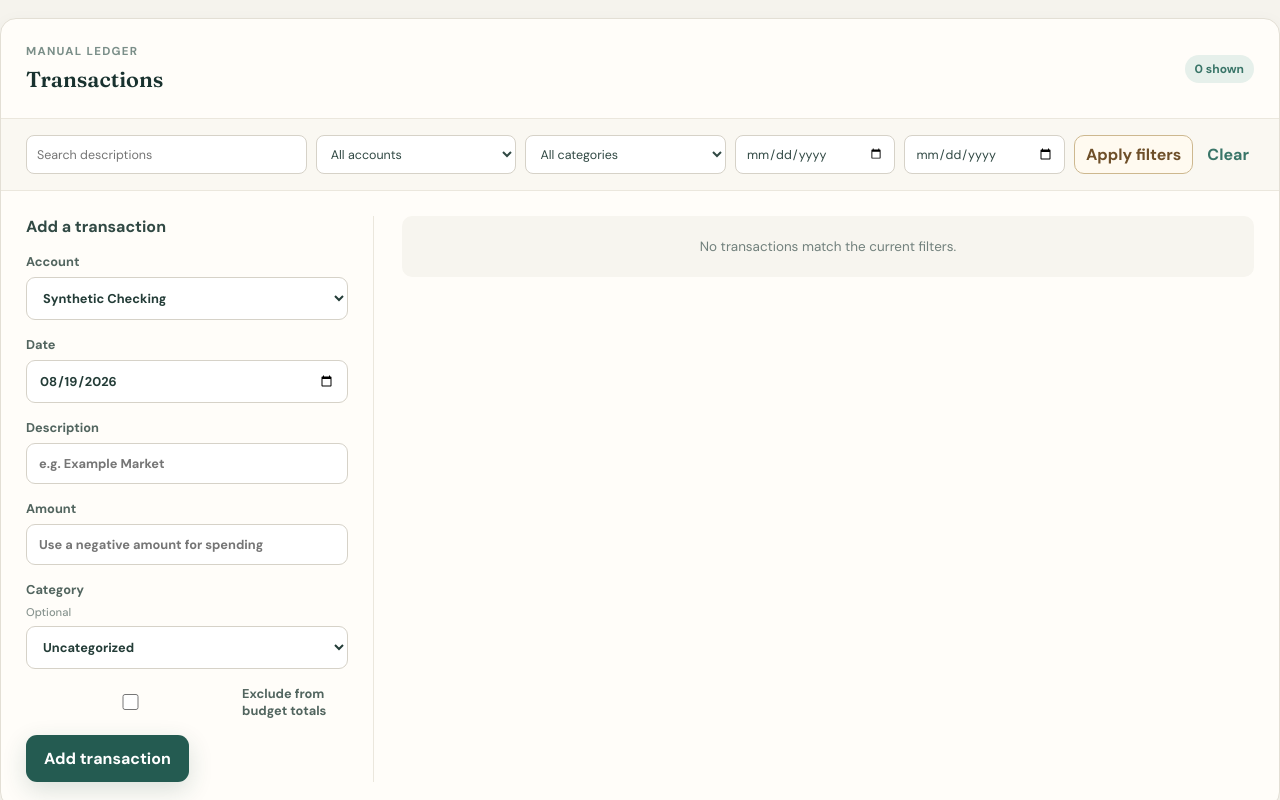
Test: TransactionManager › creates a manual transaction and refreshes the ledger
This screenshot has width=1280, height=800.
Expected: the text "No transactions match the current filters." is shown, [402,216,1254,277]
Type "Example Market" into the field labelled "Description" at (187, 464), box [26,443,348,484]
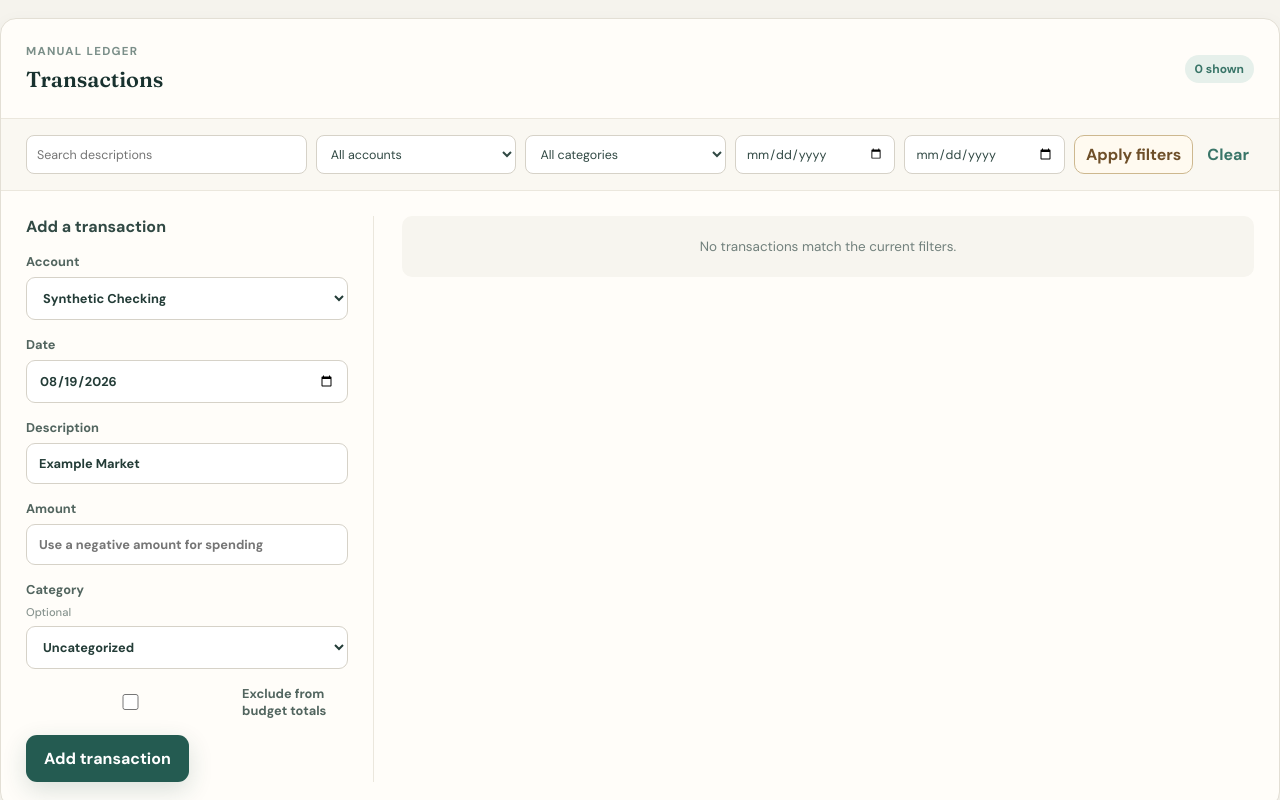
Type "-42.15" into the number field labelled "Amount" at (187, 544), box [26,524,348,565]
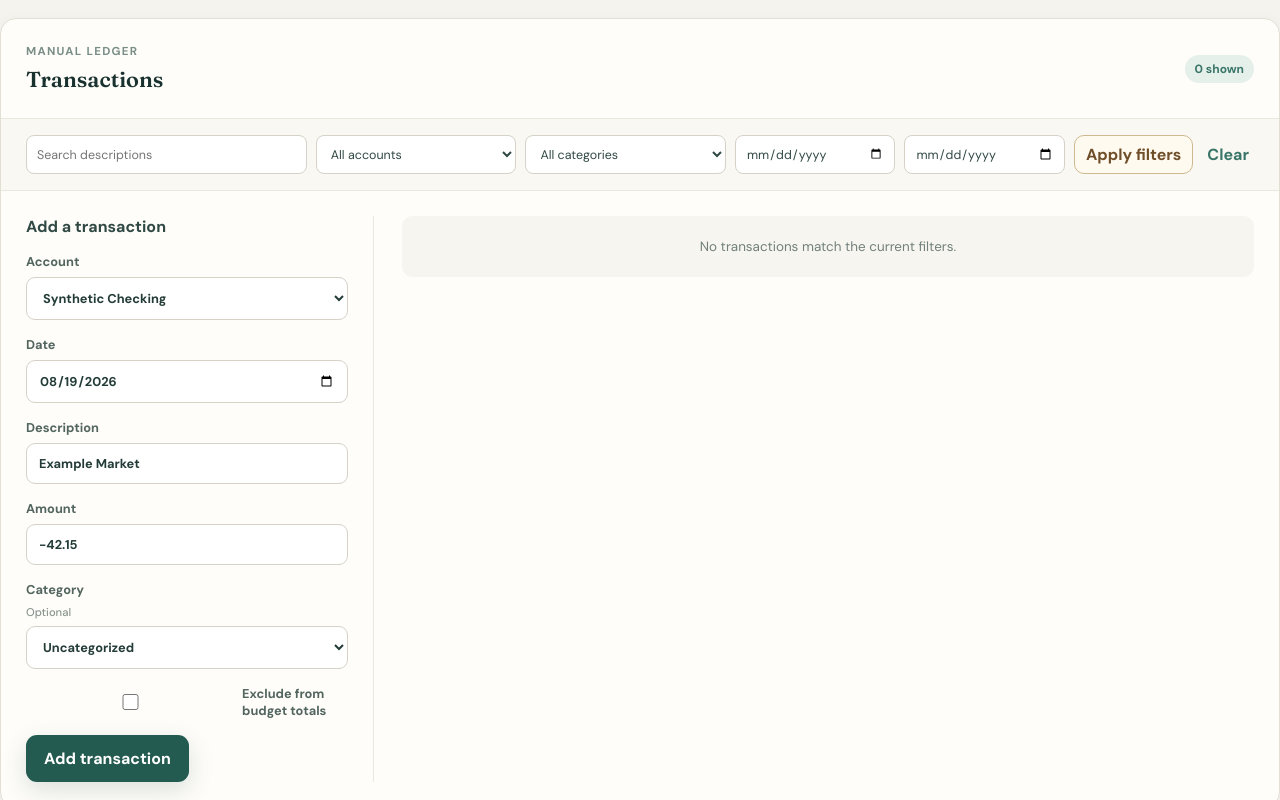
Click the button "Add transaction" at (107, 758), box [26,735,189,782]
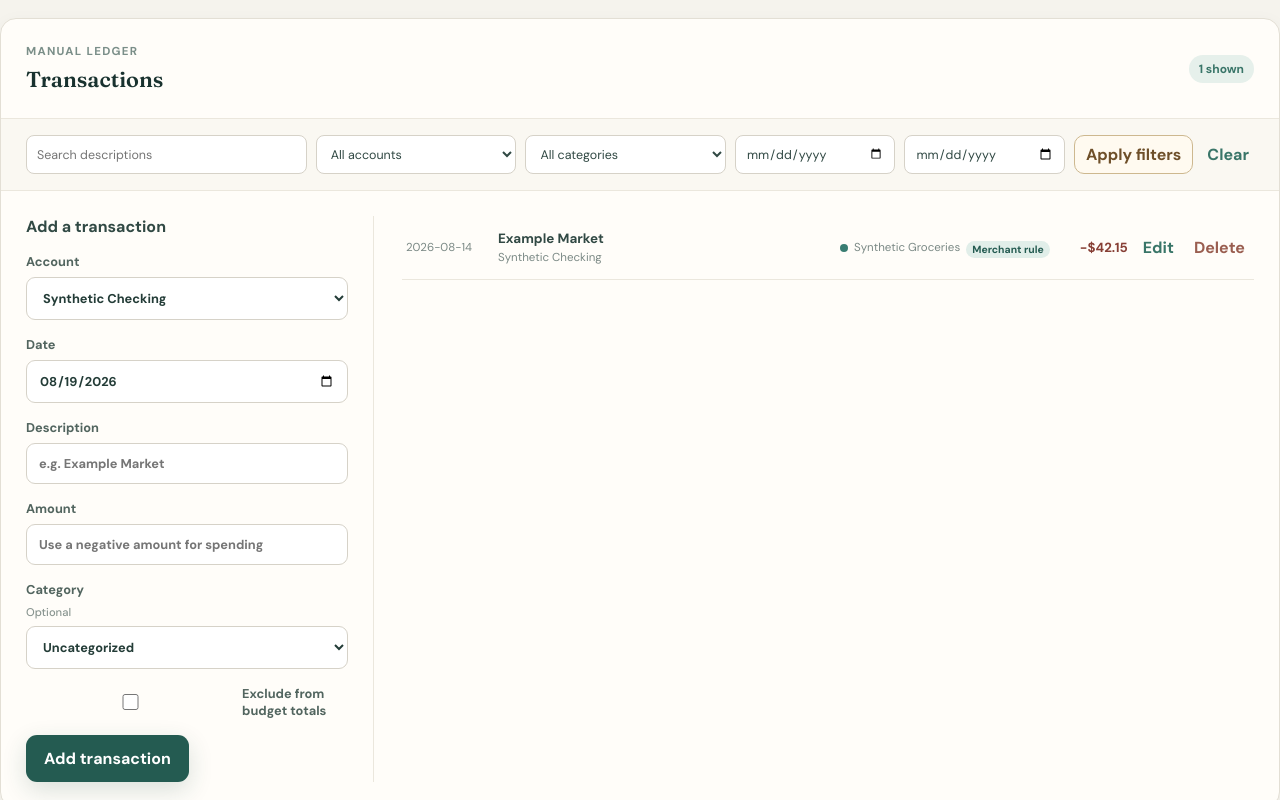
Now the text "Example Market" is shown, box [498,230,604,247]
